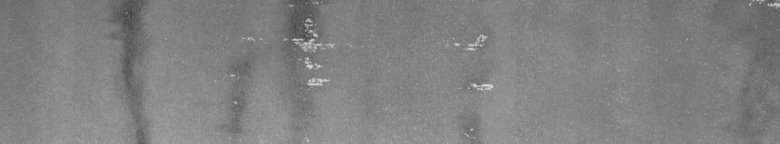hc: (223, 4, 363, 122)
